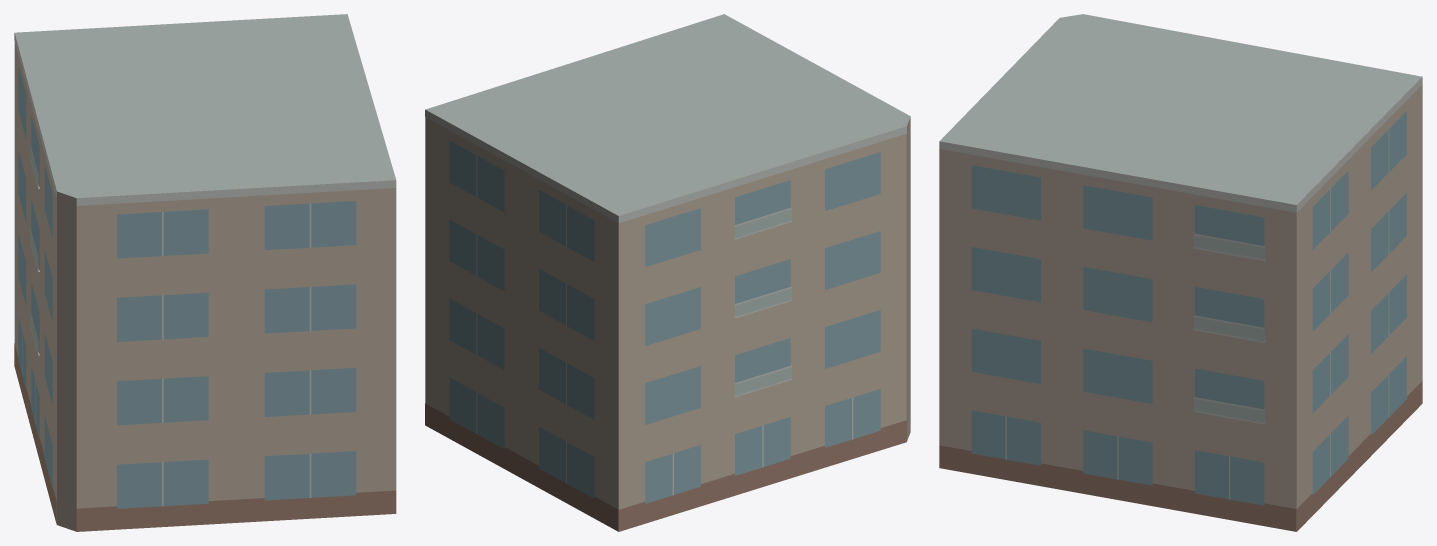
File: survey-upis-32965986.glb
3 renders of one model, left to right at view 1: azimuth 30°, elevation 25°; view 2: azimuth 150°, elevation 25°; view 3: azimuth 270°, elevation 25°, orthographic. The views are drawn at different scales.
Parts seen in each view (by area): view 1: survey-upis-32965986.tmp; view 2: survey-upis-32965986.tmp; view 3: survey-upis-32965986.tmp.
Part boxes in pixels (x1=…): survey-upis-32965986.tmp: x1=14, y1=14, x2=396, y2=531; survey-upis-32965986.tmp: x1=425, y1=14, x2=910, y2=531; survey-upis-32965986.tmp: x1=939, y1=14, x2=1422, y2=531.
Size of the model in its own units: 13.17 by 10.5 by 14.08.
